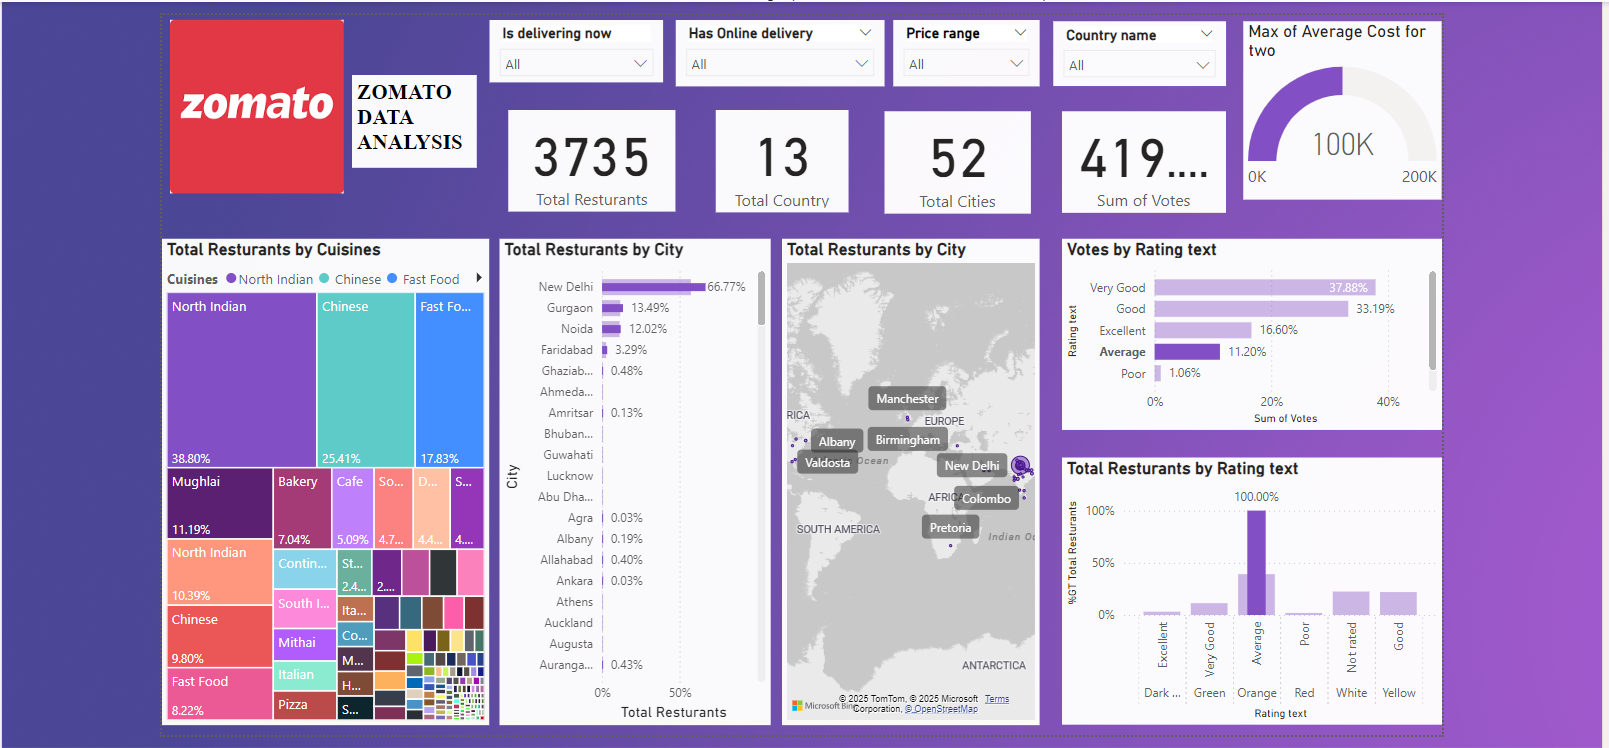

What the dashboard file says about the page in this screenshot:
{"tool":"powerbi","page":{"name":"Page 1","canvas":[1280,720],"ordinal":0},"visuals":[{"type":"slicer","fields":{"Values":["zomato.Country name"]},"box":[891.2,6.2,172.5,65],"z":0},{"type":"slicer","fields":{"Values":["zomato.Price range"]},"box":[731.2,5,146.2,66.2],"z":1000},{"type":"slicer","fields":{"Values":["zomato.Has Online delivery"]},"box":[513.8,5,208.8,66.2],"z":2000},{"type":"slicer","fields":{"Values":["zomato.Is delivering now"]},"box":[327.5,5,173.8,62.5],"z":3000},{"type":"card","fields":{"Values":["zomato.Total Resturants"]},"box":[346.2,95,167.5,101.2],"z":4000},{"type":"card","fields":{"Values":["zomato.Total Cities"]},"box":[722.5,96.2,146.2,102.5],"z":5000},{"type":"card","fields":{"Values":["zomato.Total Country"]},"box":[553.8,95,132.5,102.5],"z":6000},{"type":"card","fields":{"Values":["Sum(zomato.Votes)"]},"box":[900,96.2,163.8,101.2],"z":7000},{"type":"treemap","title":" Total Resturants by Cuisines","fields":{"Values":["zomato.Total Resturants"],"Group":["zomato.Cuisines"]},"box":[0,223.8,327.5,486.2],"z":8000},{"type":"map","fields":{"Category":["zomato.City"],"Size":["zomato.Total Resturants"]},"box":[620,223.8,257.5,486.2],"z":9000},{"type":"columnChart","title":" Total Resturants by Rating text","fields":{"Category":["zomato.Rating color","zomato.Rating text"],"Y":["zomato.Total Resturants"]},"box":[900,442.5,380,267.5],"z":10000},{"type":"clusteredBarChart","title":" Votes by Rating text","fields":{"Category":["zomato.Rating text"],"Y":["Sum(zomato.Votes)"]},"box":[900,223.8,380,191.2],"z":11000},{"type":"gauge","fields":{"Y":["Max(zomato.Average Cost for two)"]},"box":[1081.2,6.2,198.8,178.8],"z":12000},{"type":"clusteredBarChart","title":" Total Resturants by City","fields":{"Category":["zomato.City"],"Y":["zomato.Total Resturants"]},"box":[337.5,223.8,271.2,486.2],"z":13000},{"type":"image","box":[0,0,190,183.8],"z":15000},{"type":"textbox","box":[190,60,125,92.5],"z":16000}]}

Visuals, with their boxes in screenshot pixels (x1, y1, x2, y2):
slicer - zomato.Country name: bbox=[1046, 23, 1217, 87]
slicer - zomato.Price range: bbox=[888, 22, 1033, 87]
slicer - zomato.Has Online delivery: bbox=[673, 22, 879, 87]
slicer - zomato.Is delivering now: bbox=[488, 22, 660, 84]
card - zomato.Total Resturants: bbox=[506, 111, 672, 211]
card - zomato.Total Cities: bbox=[879, 112, 1024, 214]
card - zomato.Total Country: bbox=[712, 111, 843, 212]
card - Sum(zomato.Votes): bbox=[1055, 112, 1218, 212]
" Total Resturants by Cuisines" treemap: bbox=[163, 239, 488, 720]
map - zomato.City x zomato.Total Resturants: bbox=[778, 239, 1033, 720]
" Total Resturants by Rating text" columnChart: bbox=[1055, 455, 1432, 720]
" Votes by Rating text" clusteredBarChart: bbox=[1055, 239, 1432, 428]
gauge - Max(zomato.Average Cost for two): bbox=[1235, 23, 1432, 200]
" Total Resturants by City" clusteredBarChart: bbox=[498, 239, 767, 720]
image: bbox=[163, 17, 352, 199]
textbox: bbox=[352, 76, 476, 168]
